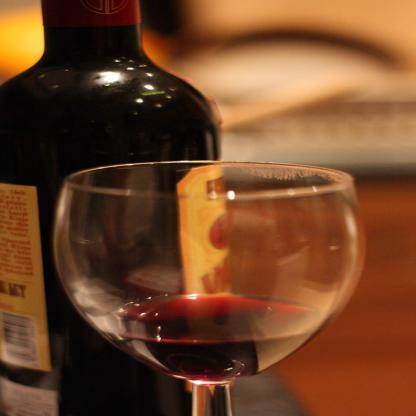drinking: (0, 0, 237, 415), (54, 160, 367, 415)
